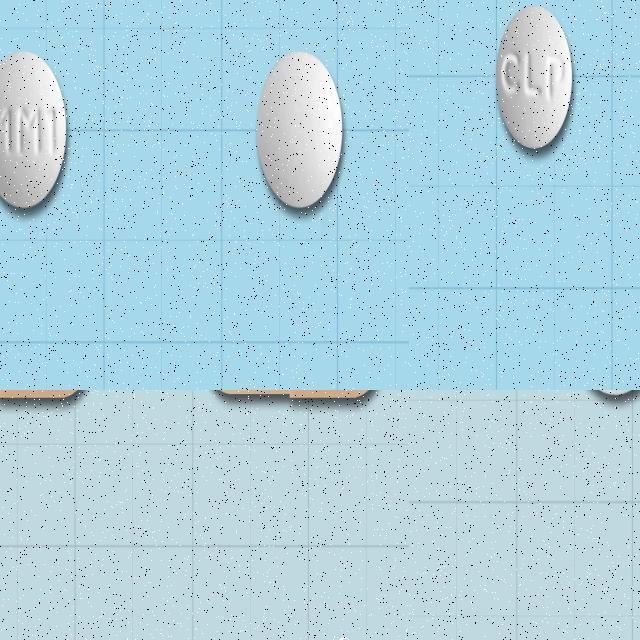Leflunomide - 20mg: (255, 49, 344, 210), (0, 49, 68, 208)
Luarva - 20mg: (496, 2, 575, 150)
